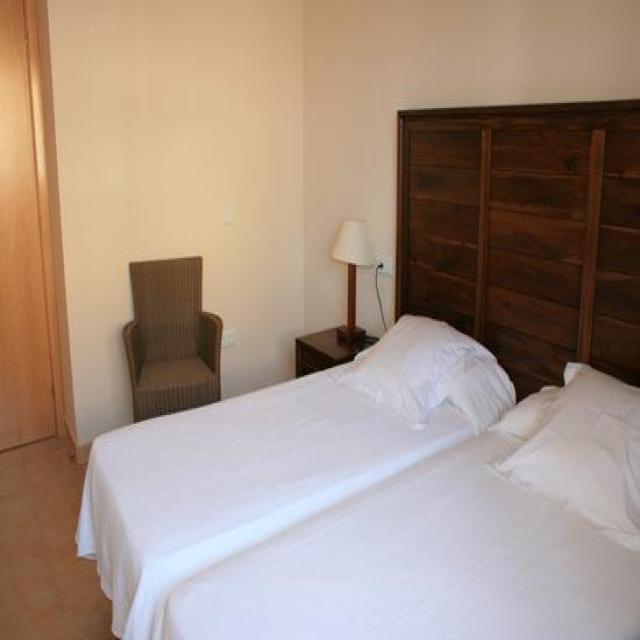Headboard: (392, 98, 639, 385)
bed -occluded-: (73, 314, 512, 637)
chair -occluded-: (119, 256, 222, 419)
lamp crop: (325, 218, 374, 344)
nightstand: (294, 324, 381, 375)
